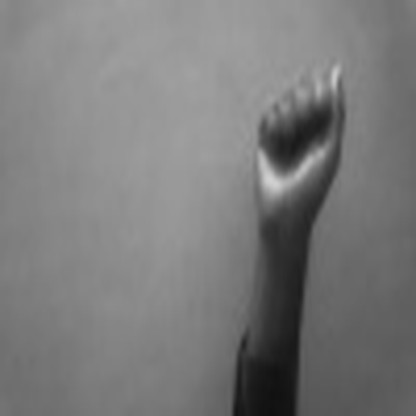a: (245, 54, 354, 237)
